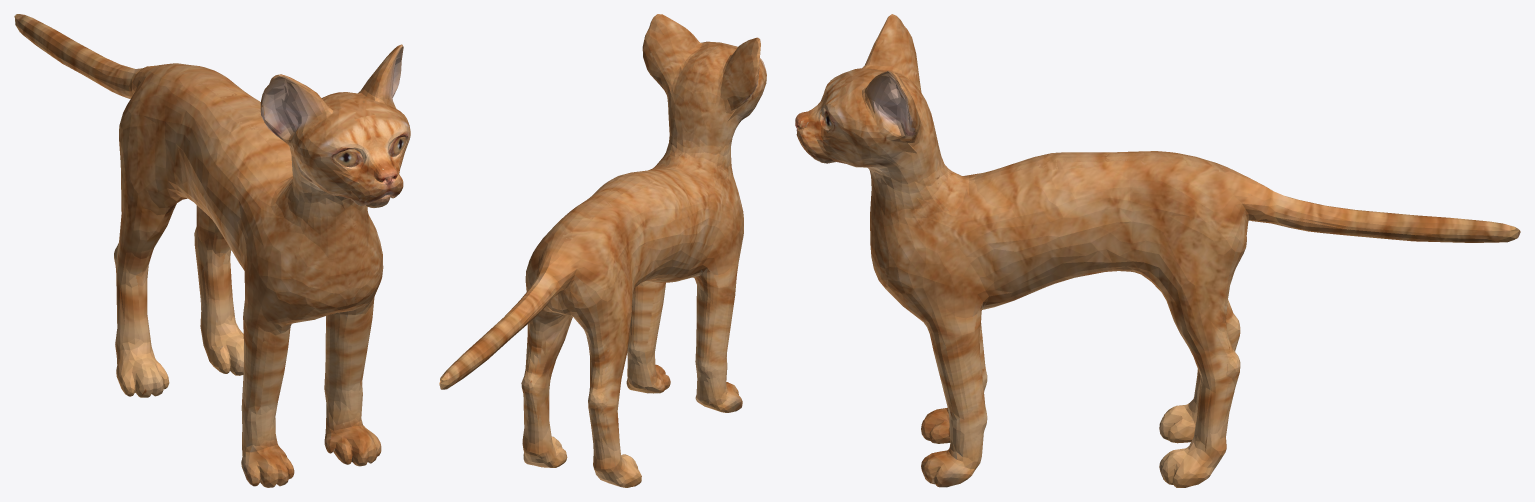
File: EgyptianMau.glb
3 renders of one model, left to right at view 1: azimuth 30°, elevation 25°; view 2: azimuth 150°, elevation 25°; view 3: azimuth 270°, elevation 25°, orthographic. The views are drawn at different scales.
Parts seen in each view (by area): view 1: Cat_Base_1.002; view 2: Cat_Base_1.002; view 3: Cat_Base_1.002.
Part boxes in pixels (x1,y1,x2,y2): Cat_Base_1.002: [14, 14, 410, 487]; Cat_Base_1.002: [439, 14, 766, 487]; Cat_Base_1.002: [795, 14, 1520, 487].
Size of the model in its own units: 1.47 by 4.33 by 6.84.
1 material, 1 textured.
